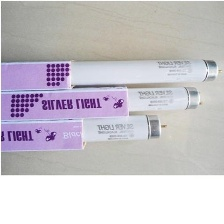carton: (0, 85, 131, 123), (0, 56, 76, 93), (0, 118, 87, 150)
light_bulb: (0, 82, 210, 117), (0, 111, 170, 151), (0, 58, 223, 87)
